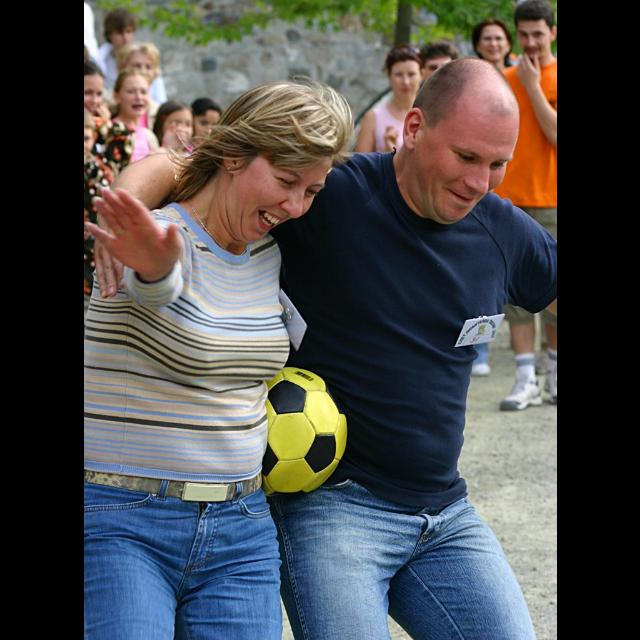Football: (258, 362, 348, 496)
